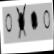correct: (30, 9, 38, 32)
not correct: (16, 2, 28, 40)
